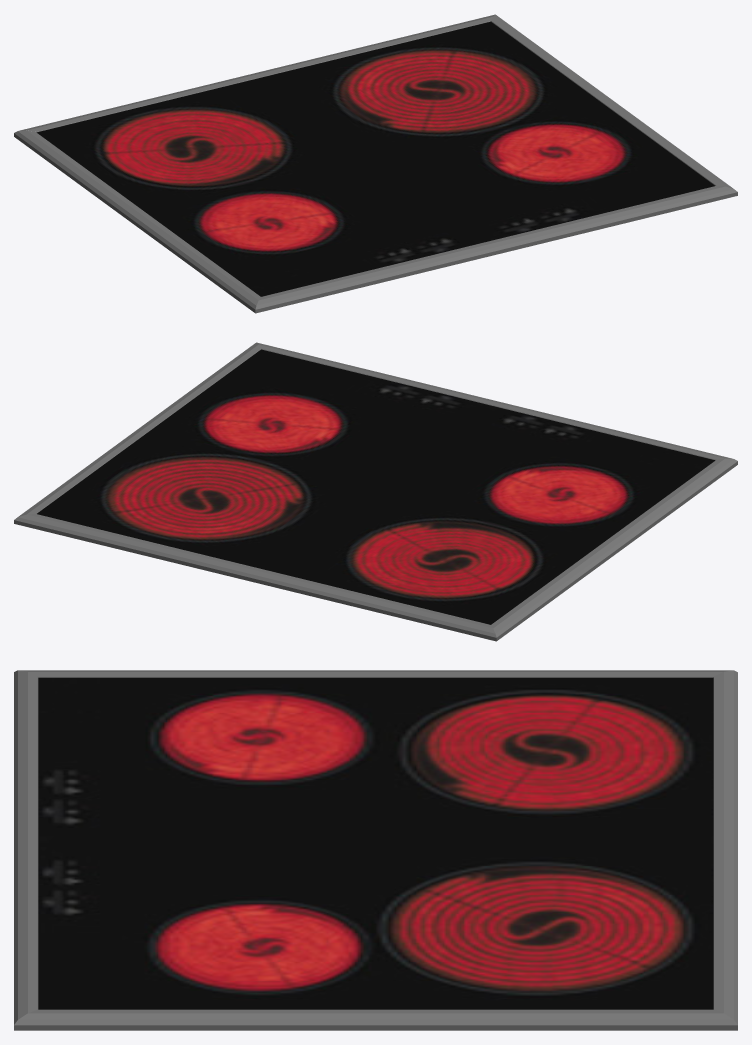
File: sweethome3d-contributions-ceramic-hob-181.glb
3 views of the same model, one above another, from view 1: azimuth 30°, elevation 25°; view 2: azimuth 150°, elevation 25°; view 3: azimuth 270°, elevation 25° (orthographic). The views are drawn at different scales.
Parts seen in each view (by area): view 1: Photo_Cube_Material_ceramicHobOn.jpg, Frame_Cylinder_DarkG; view 2: Photo_Cube_Material_ceramicHobOn.jpg, Frame_Cylinder_DarkG; view 3: Photo_Cube_Material_ceramicHobOn.jpg, Frame_Cylinder_DarkG.
Boxes of the visible parts, box(x1,y1,x2,y2) form: Photo_Cube_Material_ceramicHobOn.jpg: box(36, 21, 714, 296); Frame_Cylinder_DarkG: box(14, 14, 737, 313); Photo_Cube_Material_ceramicHobOn.jpg: box(37, 349, 715, 624); Frame_Cylinder_DarkG: box(14, 342, 737, 641); Photo_Cube_Material_ceramicHobOn.jpg: box(38, 677, 713, 1009); Frame_Cylinder_DarkG: box(14, 670, 737, 1030).
Bounding box in the file's own units: 60 × 0.9286 × 52.
Materials: 3 (1 with a texture image).
